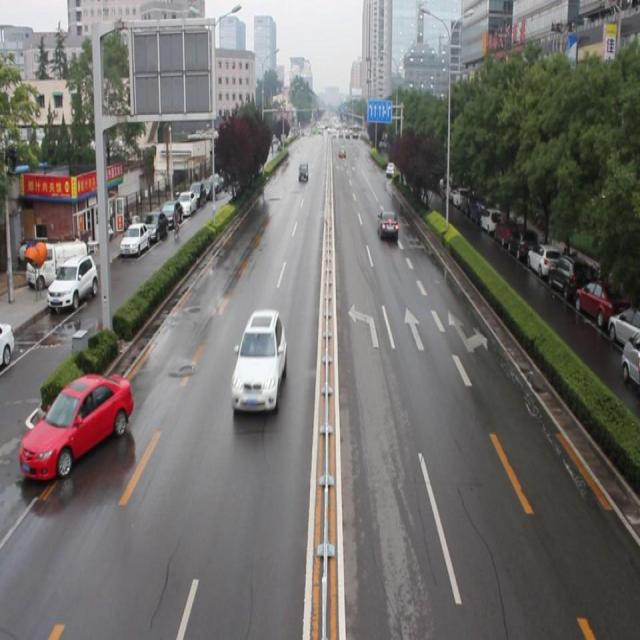car: (19, 372, 134, 480), (230, 307, 287, 415), (376, 207, 398, 239), (385, 162, 396, 176)
truck: (296, 160, 309, 183)
